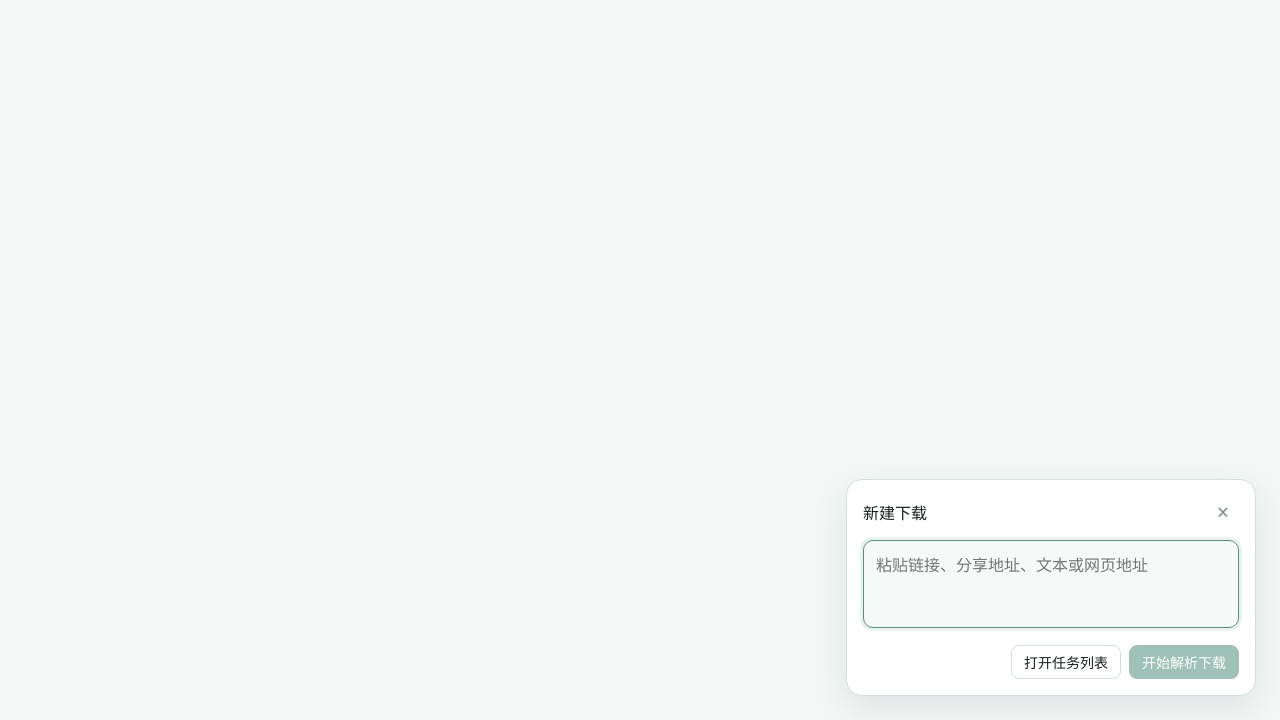
Scenario: enables parsing only after the quick-add input contains content
Check: the button "开始解析下载" is disabled, box [1129, 645, 1239, 679]
Type "https://example.com/file.zip" into the text box named "下载内容" at (1051, 584), box [863, 540, 1239, 628]
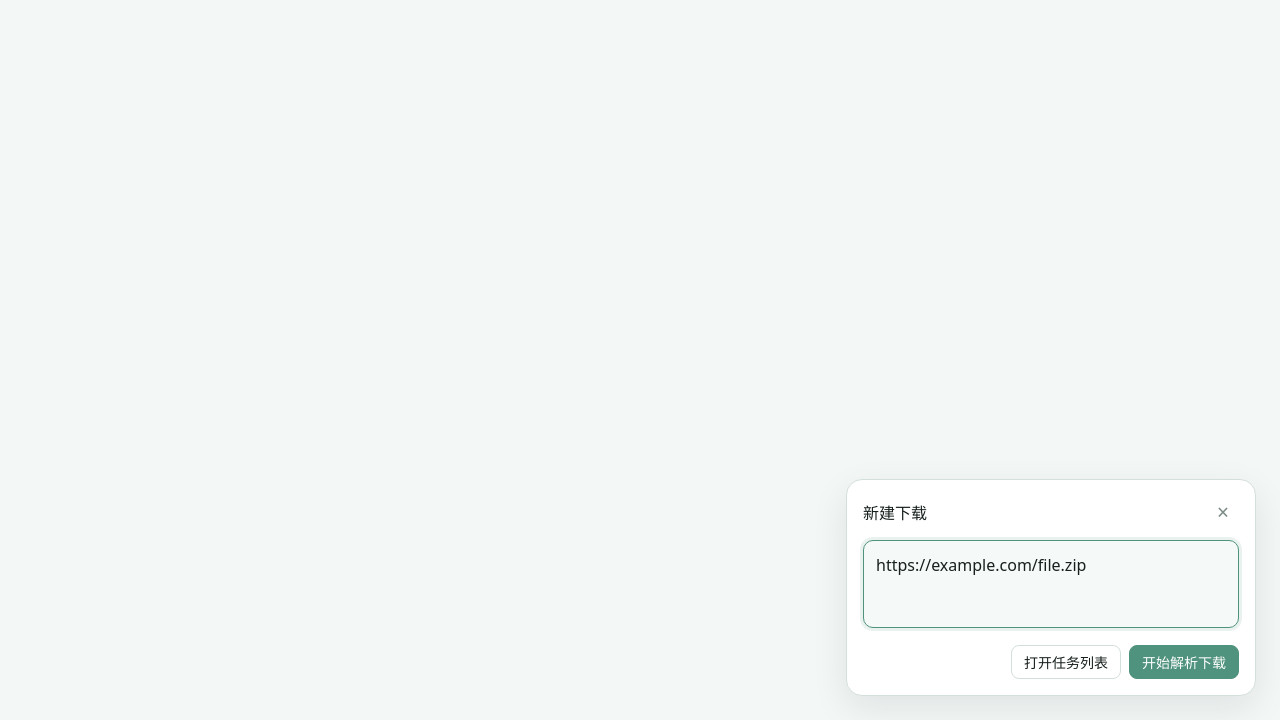
Check: the button "开始解析下载" is enabled, box [1129, 645, 1239, 679]
